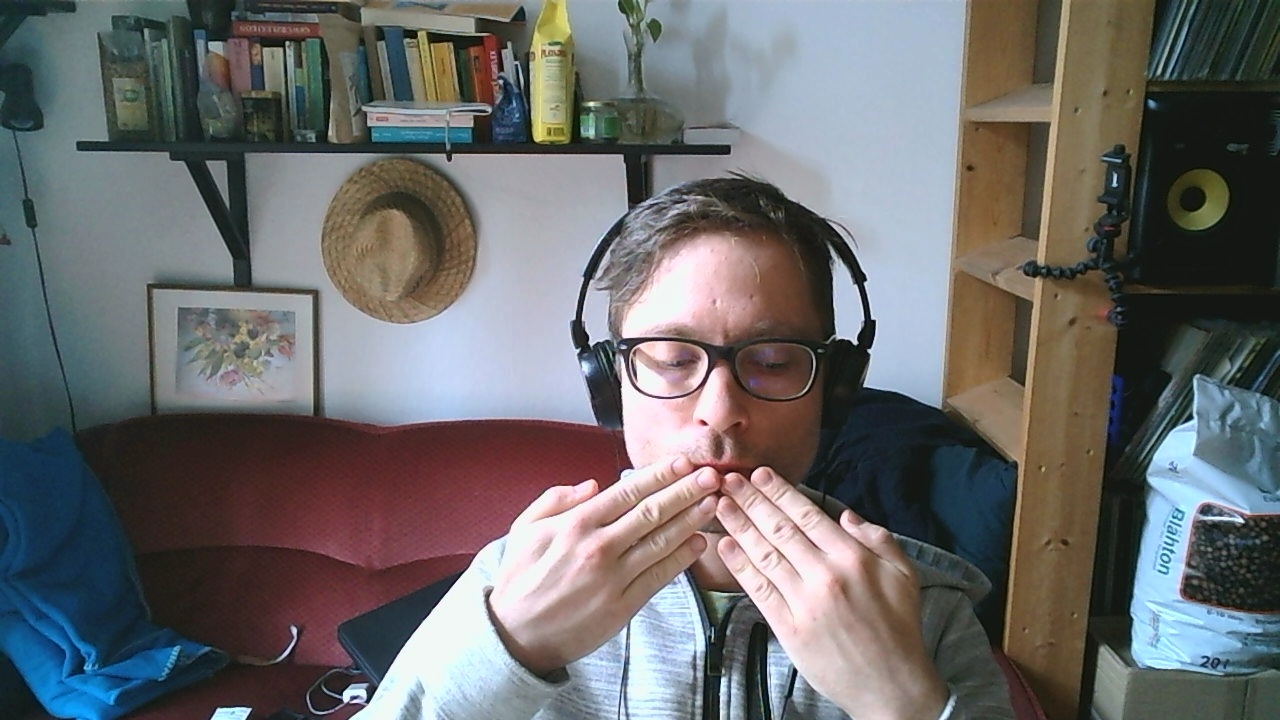thanks: (493, 460, 930, 707)
